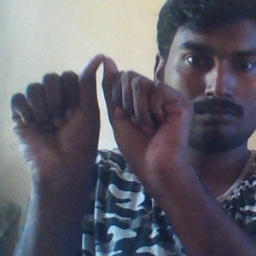A: (8, 51, 195, 165)
